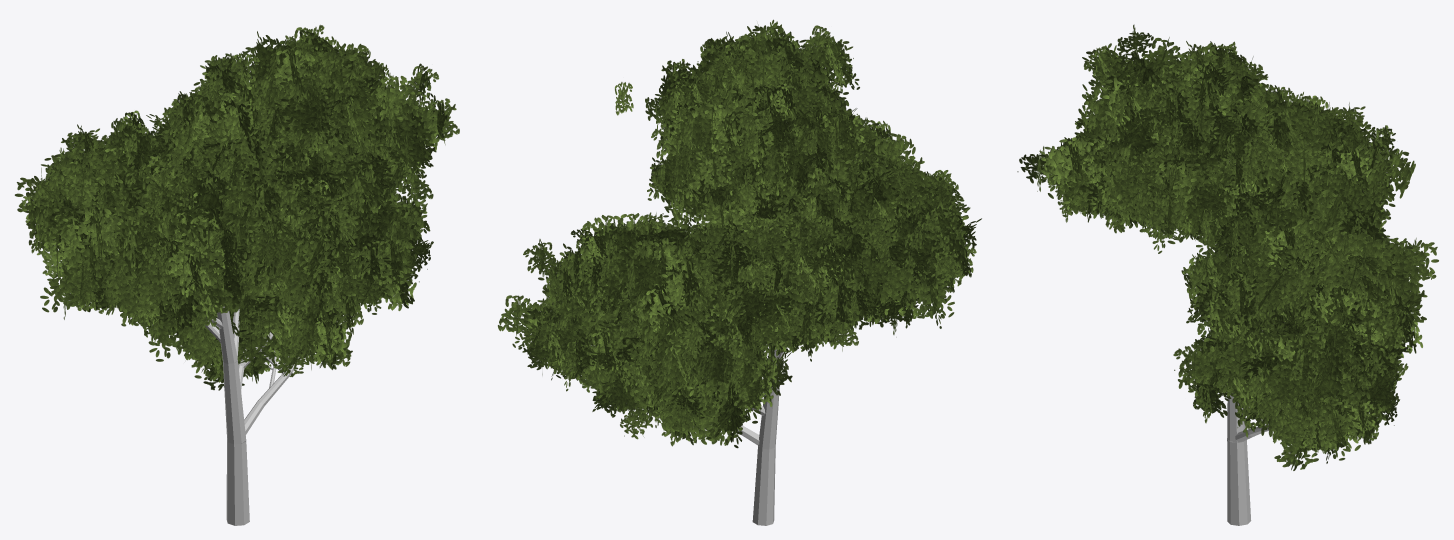
The model's file is beech_1.gltf.
The picture shows the model from 3 angles, left to right: view 1: azimuth 30°, elevation 25°; view 2: azimuth 150°, elevation 25°; view 3: azimuth 270°, elevation 25°; orthographic projection. The views are drawn at different scales.
Visible parts, largest first — view 1: LOD0; view 2: LOD0; view 3: LOD0.
Part boxes in pixels (<box>): LOD0: <box>15,25,459,525</box>; LOD0: <box>498,19,981,525</box>; LOD0: <box>1017,24,1438,525</box>.
Size of what is drawn, in the model's own units: 17.19 by 18.46 by 14.25.
